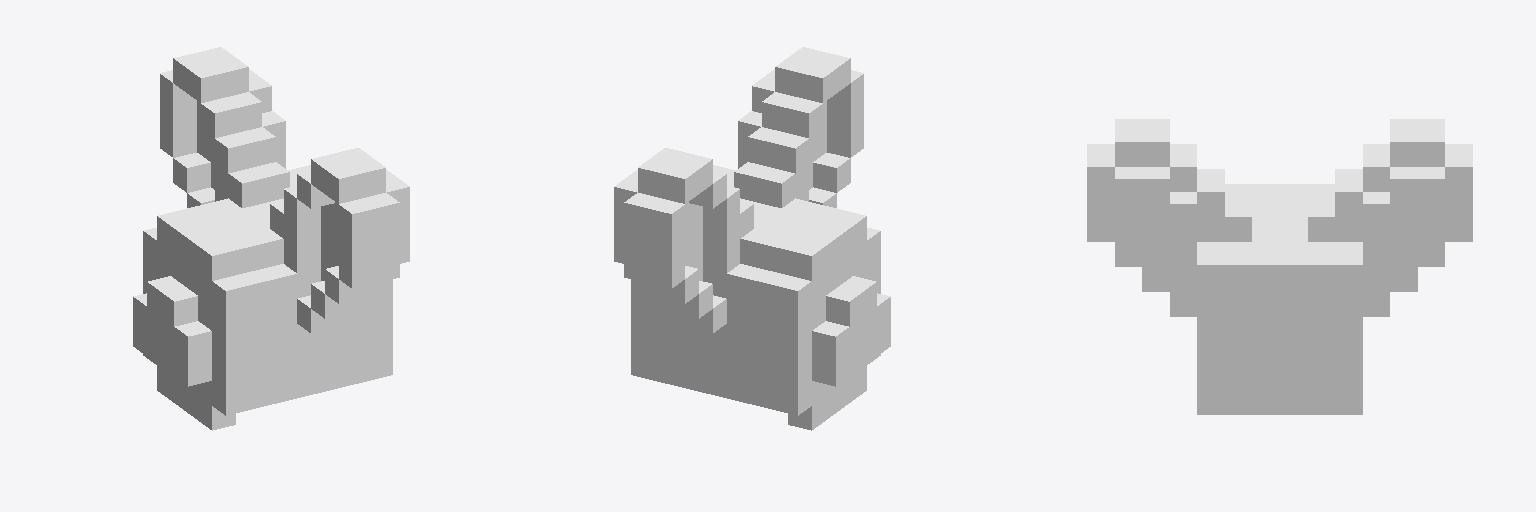
Rendered from mogerco-2.obj.
3 views of the same model, side by side, from view 1: azimuth 30°, elevation 25°; view 2: azimuth 150°, elevation 25°; view 3: azimuth 270°, elevation 25° (orthographic).
Visible parts, largest first — view 1: object 1; view 2: object 1; view 3: object 1.
Part boxes in pixels (x1,y1,x2,y2): object 1: (133, 47, 409, 430); object 1: (614, 47, 890, 430); object 1: (1087, 119, 1472, 414).
Size of the model in its own units: 0.8 by 1.1 by 1.4.